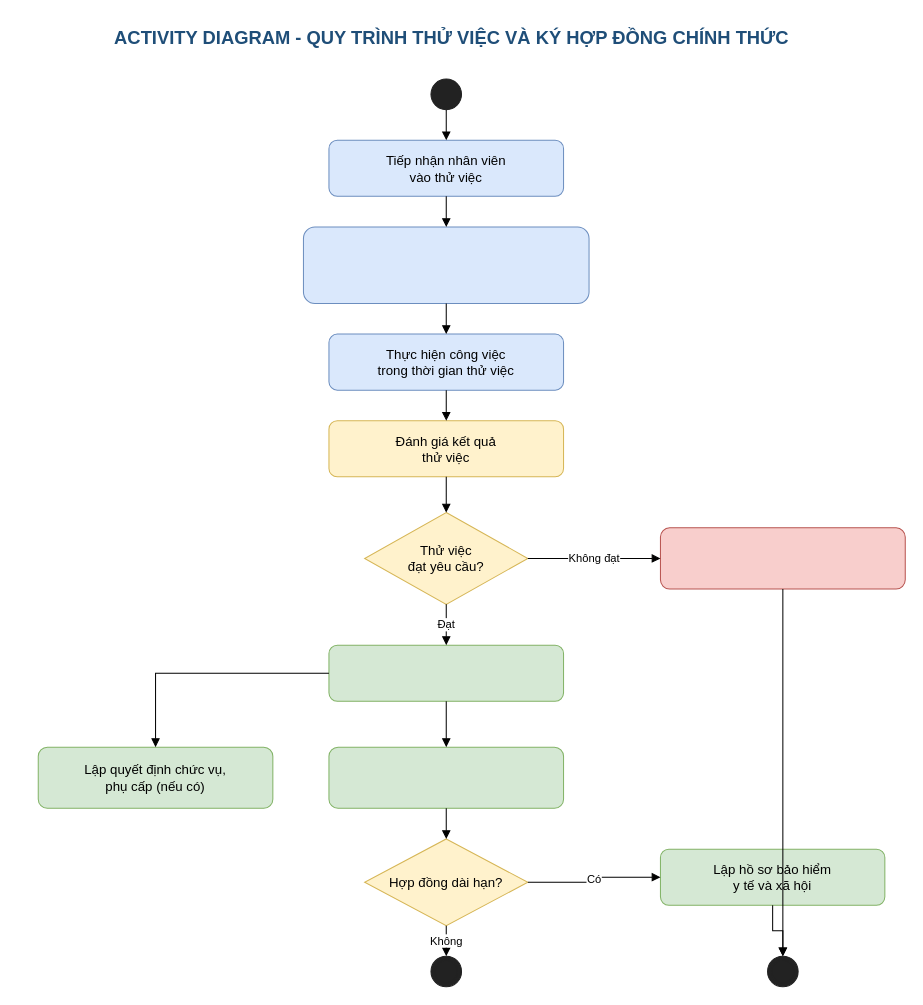
Some shapes in this 923 by 1005 pixel diagram are drawn without their labels. The box of each missing label's shape, as (x1, y1, x2, y2) in pixels:
Kết thúc thử việc, không ký hợp đồng chính thức: (659, 527, 905, 589)
Lập hợp đồng lao động chính thức: (328, 644, 564, 701)
Lập quyết định lương (lương cơ bản và phụ cấp nếu có): (328, 746, 564, 808)
Lập quyết định tuyển dụng (phòng ban, thời gian thử việc, lương và điều khoản): (302, 226, 589, 303)
